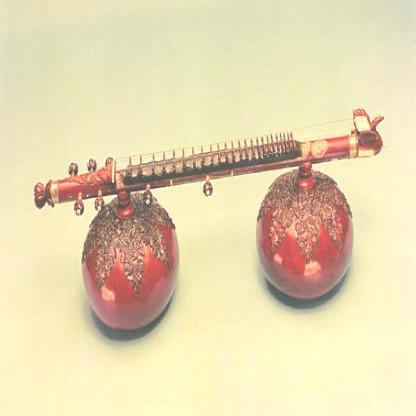Veena: (17, 101, 411, 238)
